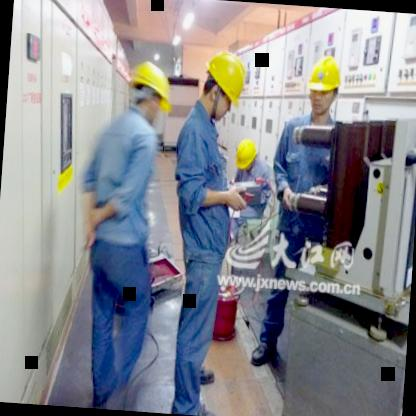helmet: (194, 46, 251, 125), (124, 60, 176, 128), (302, 47, 346, 123), (232, 134, 260, 176)
